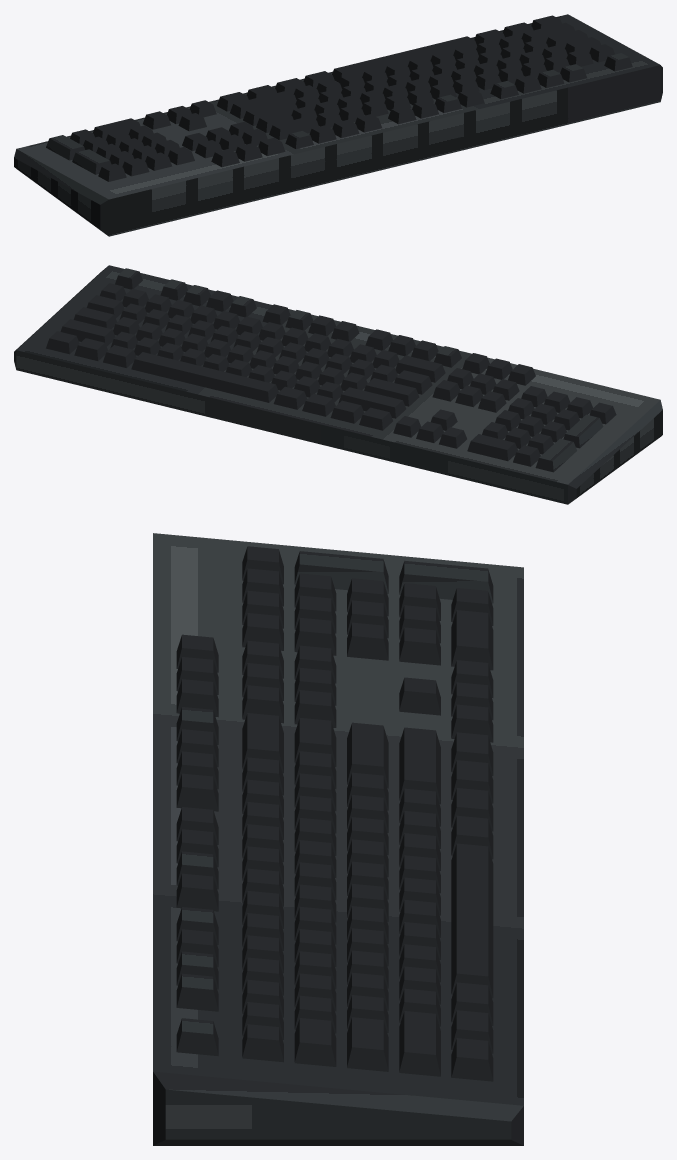
The model's file is office_keyboard_lowered.obj.
The picture shows the model from 3 angles, top to bottom: view 1: azimuth 30°, elevation 25°; view 2: azimuth 150°, elevation 25°; view 3: azimuth 270°, elevation 25°; orthographic projection. The views are drawn at different scales.
Visible parts, largest first — view 1: keyboard_keys, keyboard_body; view 2: keyboard_keys, keyboard_body; view 3: keyboard_keys, keyboard_body.
Boxes of the visible parts, <box> form: keyboard_keys: <box>46,15,632,181</box>; keyboard_body: <box>14,14,662,236</box>; keyboard_keys: <box>46,268,616,472</box>; keyboard_body: <box>14,265,662,504</box>; keyboard_keys: <box>176,546,493,1081</box>; keyboard_body: <box>153,533,523,1145</box>.
Bounding box in the file's own units: 0.7719 × 0.0596 × 0.2203.
